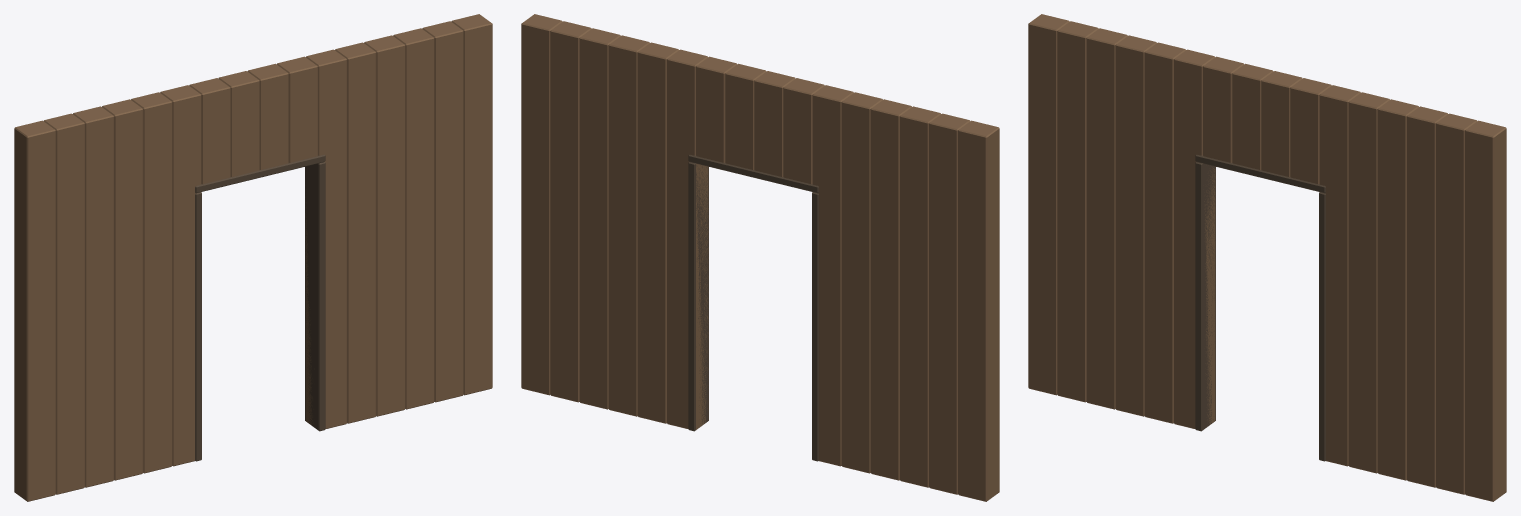
The model's file is SM_Door_Frame.fbx.
3 renders of one model, left to right at view 1: azimuth 30°, elevation 25°; view 2: azimuth 150°, elevation 25°; view 3: azimuth 330°, elevation 25°, orthographic.
Parts seen in each view (by area): view 1: SM_Door_Frame; view 2: SM_Door_Frame; view 3: SM_Door_Frame.
Boxes of the visible parts, bbox=[...] form: SM_Door_Frame: bbox=[14, 14, 492, 501]; SM_Door_Frame: bbox=[521, 14, 999, 501]; SM_Door_Frame: bbox=[1028, 14, 1506, 501].
Bounding box in the file's own units: 4 × 3 × 0.22.
